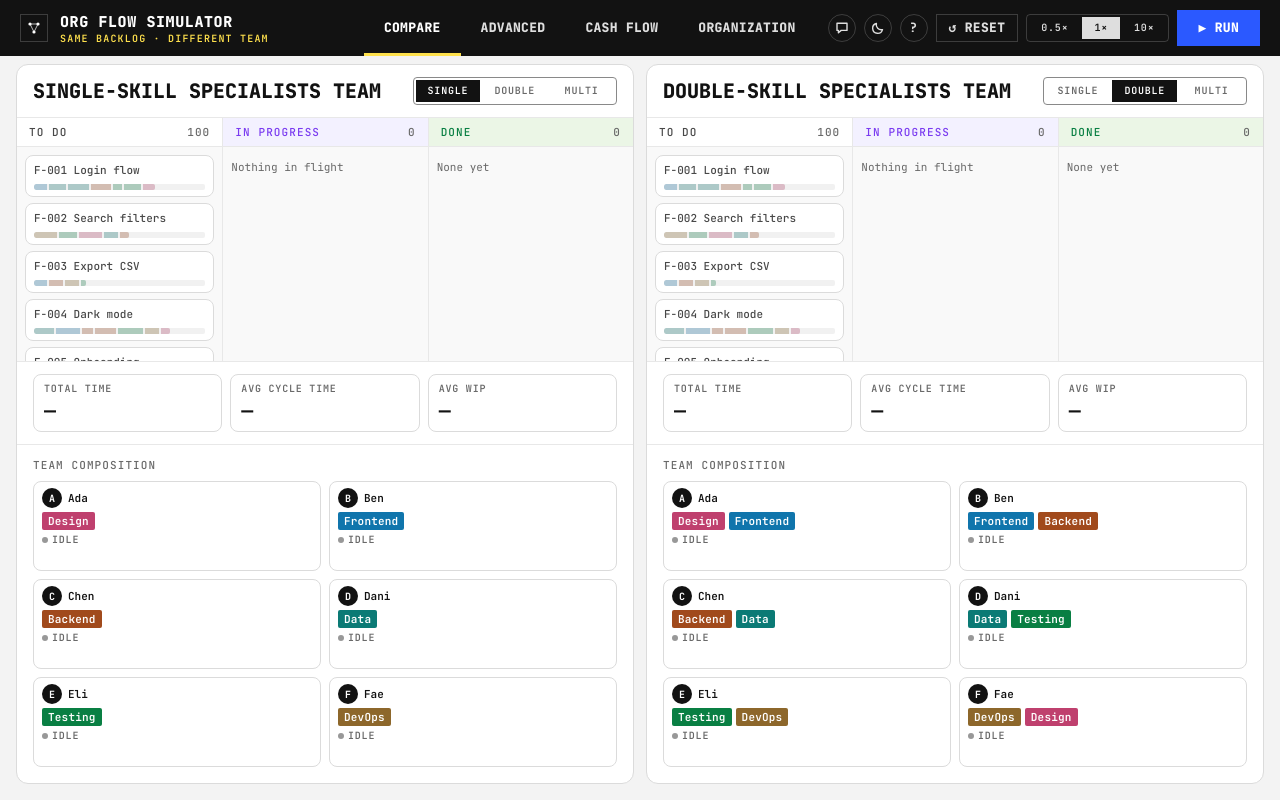
Test: feat-019 Příklad 8: nastavení AI u skillu v Simulatoru › mód {}: tři kliknutí přepnou jeden skill 2× → 5× → „AI“, ostatní chipy zůstanou „AI“, menu se neotevře
This screenshot has width=1280, height=800.
Click the tab "Advanced".
click(513, 28)  # box [461,0,565,56]
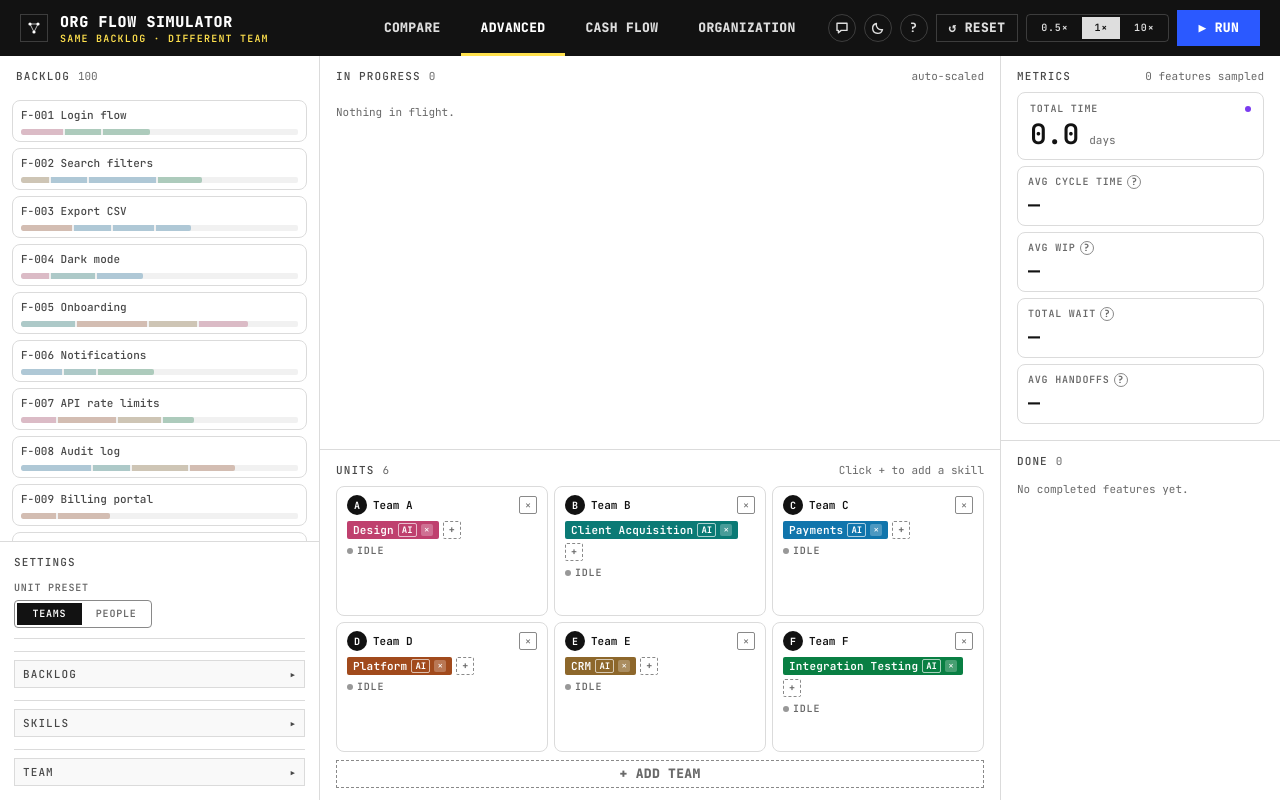
Click the button with aria-label "AI speed-up for ".
click(707, 530)  # box [697,523,716,537]
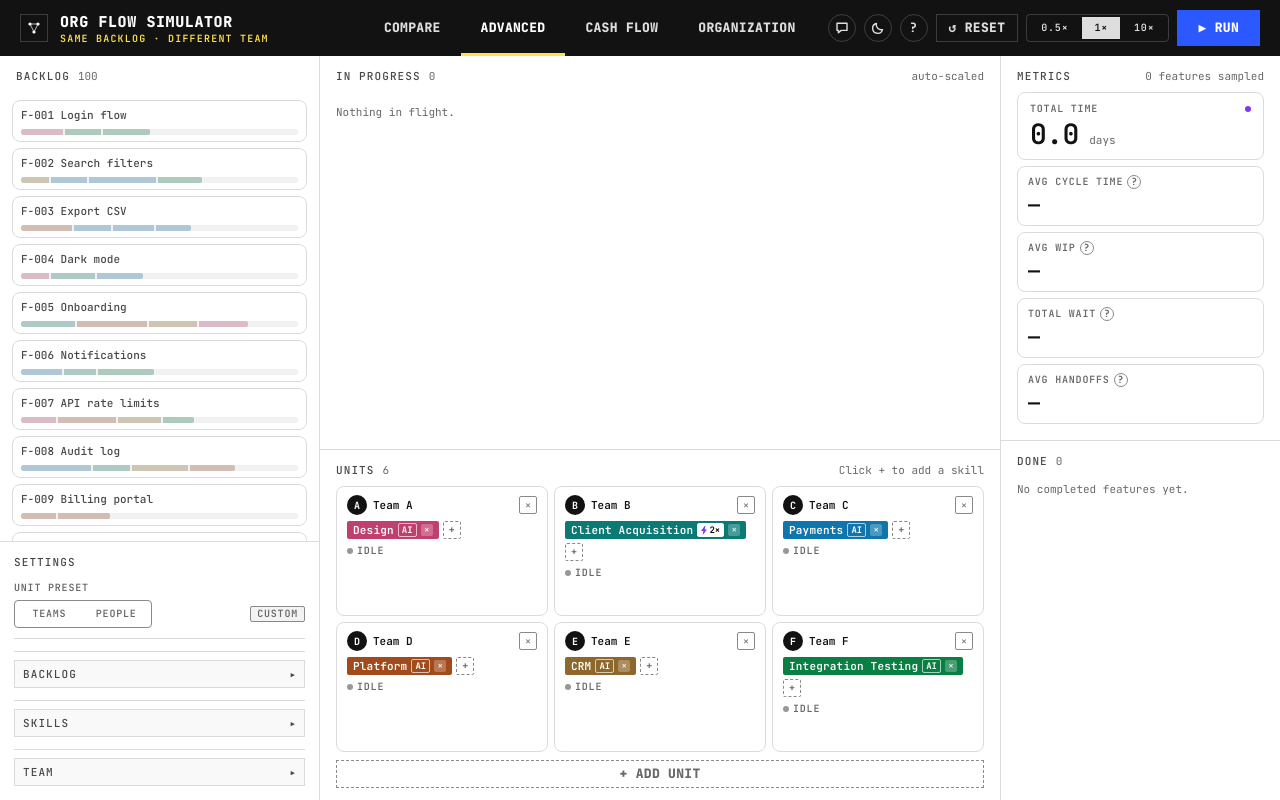
Now the button with aria-label "AI speed-up for " reads "AI", box [398,523,417,537]
Now the button named "AI speed-up for " reads "2×"
Click the button named "AI speed-up for ".
click(711, 530)  # box [697,523,724,537]
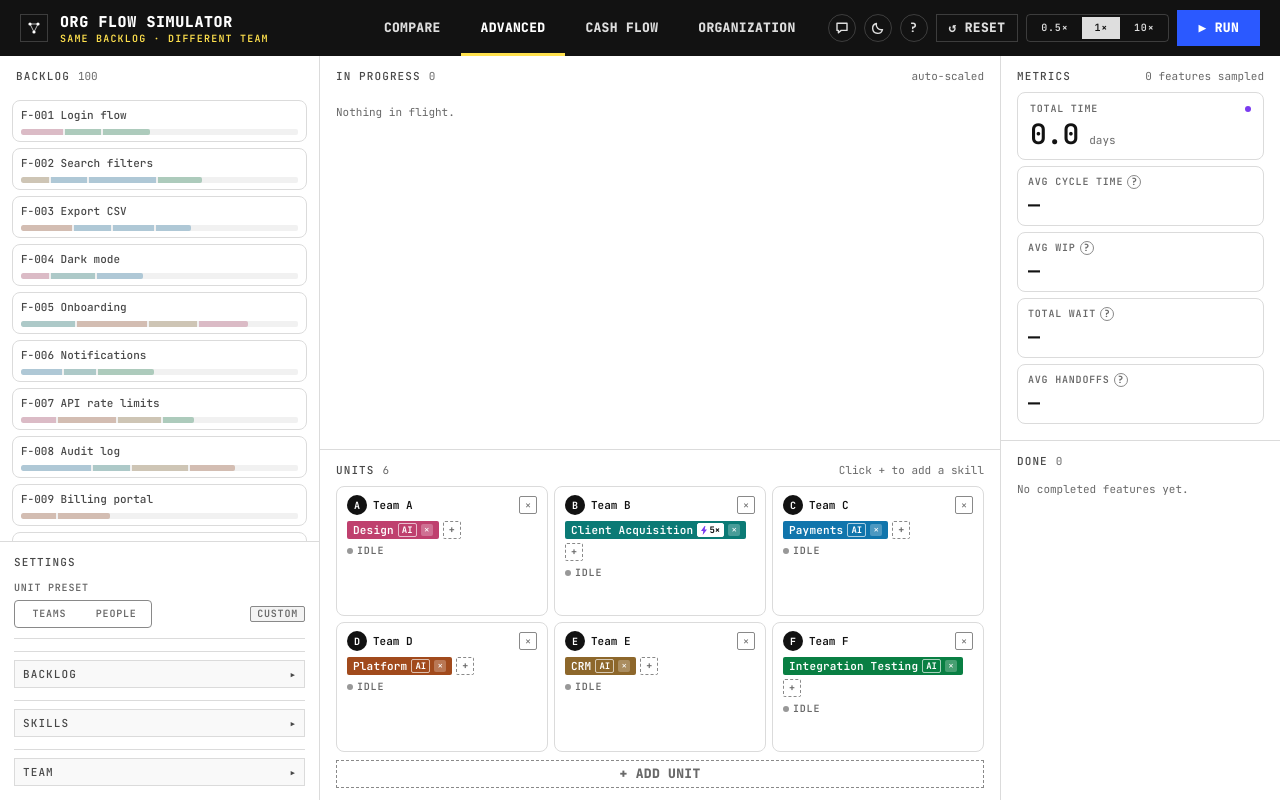
Now the button with aria-label "AI speed-up for " reads "AI", box [398,523,417,537]
Now the button named "AI speed-up for " reads "5×"
Click the button named "AI speed-up for ".
click(711, 530)  # box [697,523,724,537]
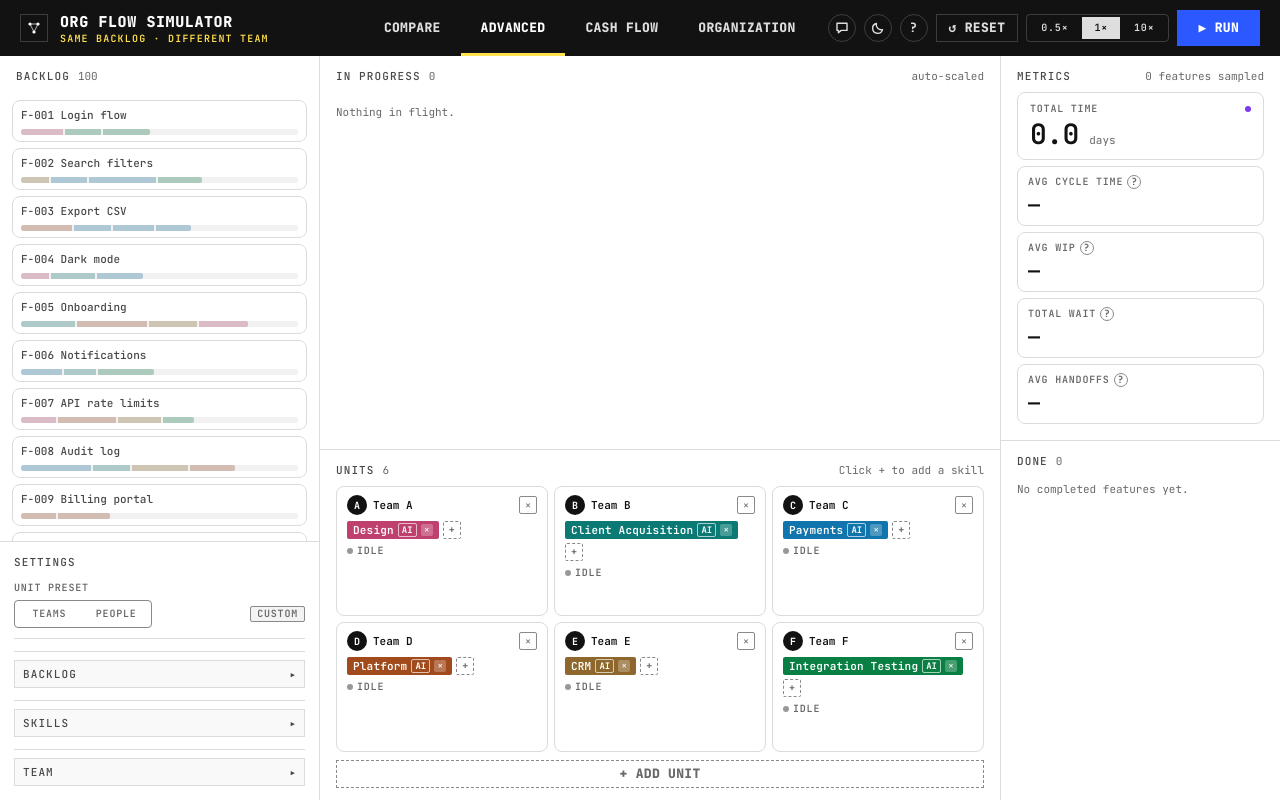
Now the button with aria-label "AI speed-up for " reads "AI", box [697,523,716,537]
